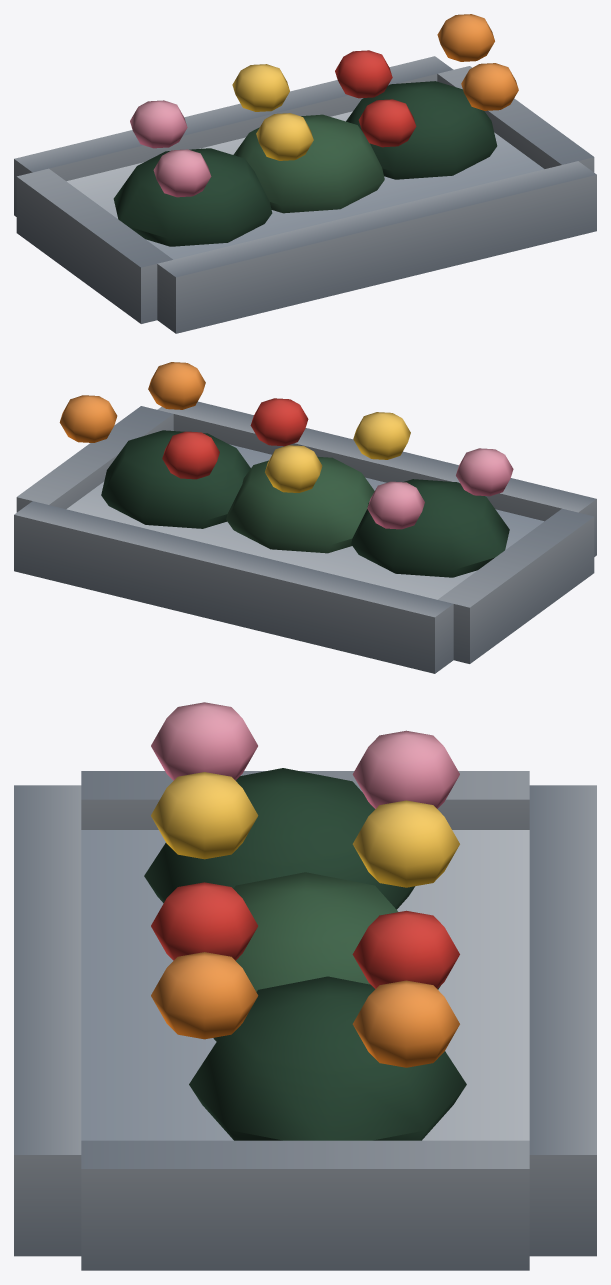
The model's file is ck_flower_bed.fbx.
3 views of the same model, one above another, from view 1: azimuth 30°, elevation 25°; view 2: azimuth 150°, elevation 25°; view 3: azimuth 270°, elevation 25° (orthographic). The views are drawn at different scales.
Visible parts, largest first — view 1: ck_flower_bed; view 2: ck_flower_bed; view 3: ck_flower_bed.
Part boxes in pixels (x1=…): ck_flower_bed: x1=14, y1=14, x2=596, y2=333; ck_flower_bed: x1=14, y1=362, x2=596, y2=673; ck_flower_bed: x1=14, y1=702, x2=596, y2=1270.
Bounding box in the file's own units: 390 × 115 × 241.
